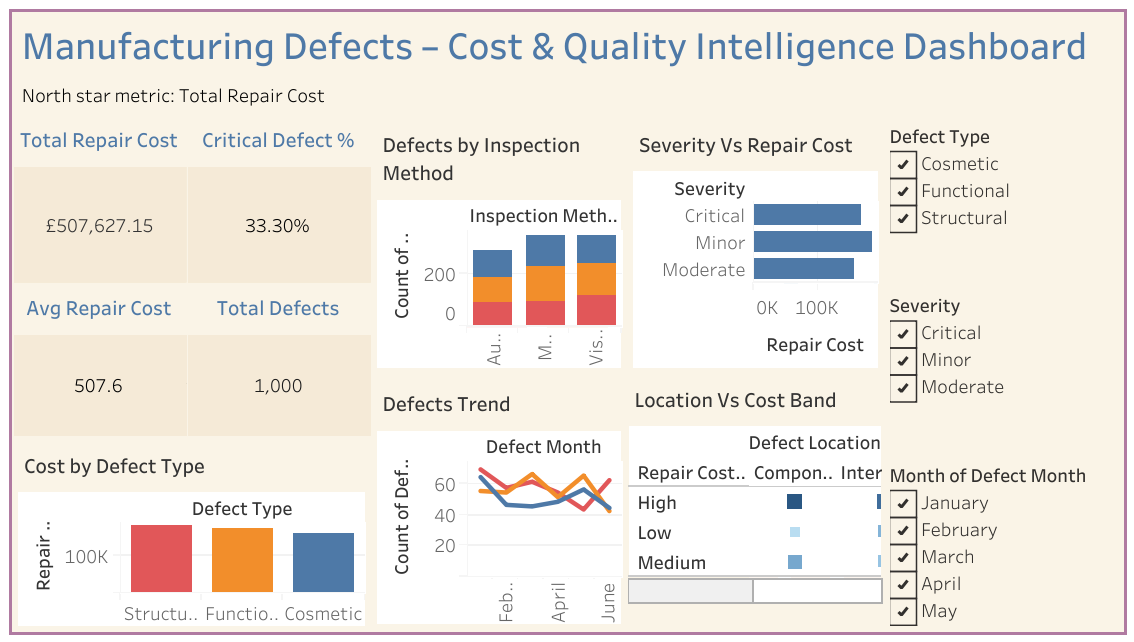

What the dashboard file says about the page in this screenshot:
{"tool":"tableau","page":{"name":"Dashboard 1","canvas":[1000,1000],"units":"permille","ordinal":0},"visuals":[{"type":"title","box":[10.6,18.7,978.9,97.9]},{"type":"text","box":[10.6,116.5,978.9,60.6]},{"type":"worksheet","title":"KPI- Total Repair Cost","mark":"Automatic","box":[10.6,177.2,153.3,261]},{"type":"worksheet","title":"KPI- % Critical","mark":"Automatic","box":[163.9,177.2,162,261]},{"type":"worksheet","title":"Defects by Inspection Method","mark":"Automatic","rows":["defect_id"],"cols":["inspection_method"],"box":[325.9,177.2,226.1,402.1]},{"type":"worksheet","title":"Severity vs Repair Cost","mark":"Automatic","rows":["severity"],"cols":["repair_cost"],"box":[552,177.2,226.1,402.1]},{"type":"filter","title":"Cost by Defect Type","param":"[federated.1lqoor614xkwjv15wh12w0c46x6t].[none:defect_type:nk]","box":[778.1,177.2,211.4,263.4]},{"type":"worksheet","title":"KPI- Avg Repair Cost","mark":"Automatic","box":[10.6,438.2,153.3,237.4]},{"type":"worksheet","title":"KPI- Total Defects","mark":"Automatic","box":[163.9,438.2,162,237.4]},{"type":"filter","title":"Defects by Inspection Method","param":"[federated.1lqoor614xkwjv15wh12w0c46x6t].[none:severity:nk]","box":[778.1,440.6,211.4,263.4]},{"type":"worksheet","title":"Defects Trend","mark":"Automatic","rows":["defect_id"],"cols":["Calculation_0014192115912886"],"box":[325.9,579.3,226.1,402.1]},{"type":"worksheet","title":"Location vs Cost Band","mark":"Square","rows":["Calculation_0014192116232375"],"cols":["defect_location"],"box":[552,579.3,226.1,402.1]},{"type":"worksheet","title":"Cost by Defect Type","mark":"Automatic","rows":["repair_cost"],"cols":["defect_type"],"box":[10.6,675.6,315.3,305.8]},{"type":"filter","title":"Defects Trend","param":"[federated.1lqoor614xkwjv15wh12w0c46x6t].[mn:Calculation_0014192115912886:ok]","box":[778.1,704,211.4,277.4]}]}

Visuals, with their boxes on the dashboard's canvas, which has no fixed pixel size, in thousandths of its width and height (x1, y1, x2, y2). These are canvas units, not pixel positions in the 1134x642 screenshot, which may show the page scaled, cropped or inside an application window:
title: bbox(11, 19, 990, 117)
text: bbox(11, 116, 990, 177)
"KPI- Total Repair Cost" worksheet: bbox(11, 177, 164, 438)
"KPI- % Critical" worksheet: bbox(164, 177, 326, 438)
"Defects by Inspection Method" worksheet: bbox(326, 177, 552, 579)
"Severity vs Repair Cost" worksheet: bbox(552, 177, 778, 579)
"Cost by Defect Type" filter: bbox(778, 177, 990, 441)
"KPI- Avg Repair Cost" worksheet: bbox(11, 438, 164, 676)
"KPI- Total Defects" worksheet: bbox(164, 438, 326, 676)
"Defects by Inspection Method" filter: bbox(778, 441, 990, 704)
"Defects Trend" worksheet: bbox(326, 579, 552, 981)
"Location vs Cost Band" worksheet (Square marks): bbox(552, 579, 778, 981)
"Cost by Defect Type" worksheet: bbox(11, 676, 326, 981)
"Defects Trend" filter: bbox(778, 704, 990, 981)
